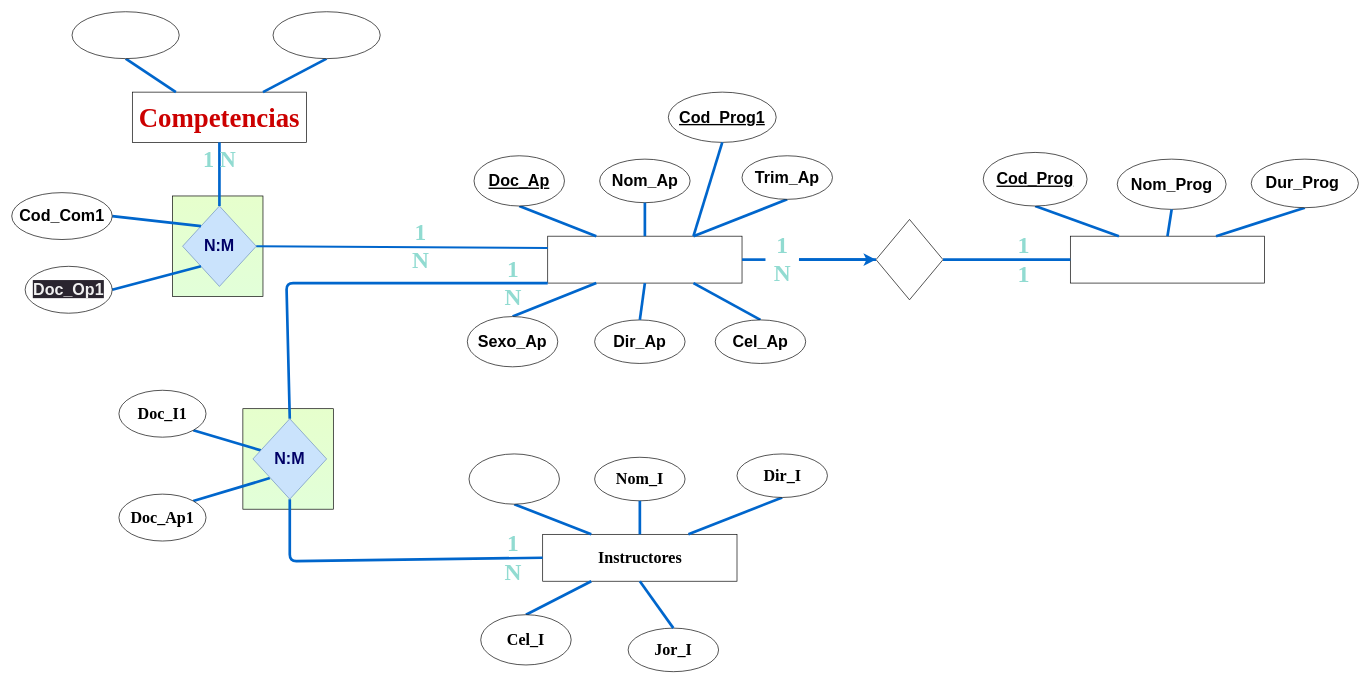
This 1370x683 diagram has some shape labels left out. The centre of each missing label's shape, as x and y in pixels:
"Aprendices" belongs at (644,259).
"Cod_Com" belongs at (125,35).
"Doc_I" belongs at (513,478).
"N:1" belongs at (909,259).
"Nom_Com" belongs at (326,35).
"Programas" belongs at (1167,259).
